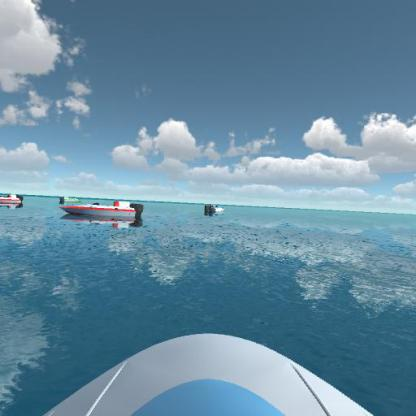usv0: (57, 190, 84, 206)
usv1: (203, 200, 229, 217)
usv3: (59, 196, 144, 232), (0, 187, 25, 211)
